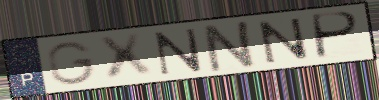G: (45, 40, 98, 87)
N: (203, 18, 261, 74), (255, 16, 313, 65), (153, 26, 205, 77)
P: (312, 10, 362, 61)
X: (94, 31, 157, 84)
